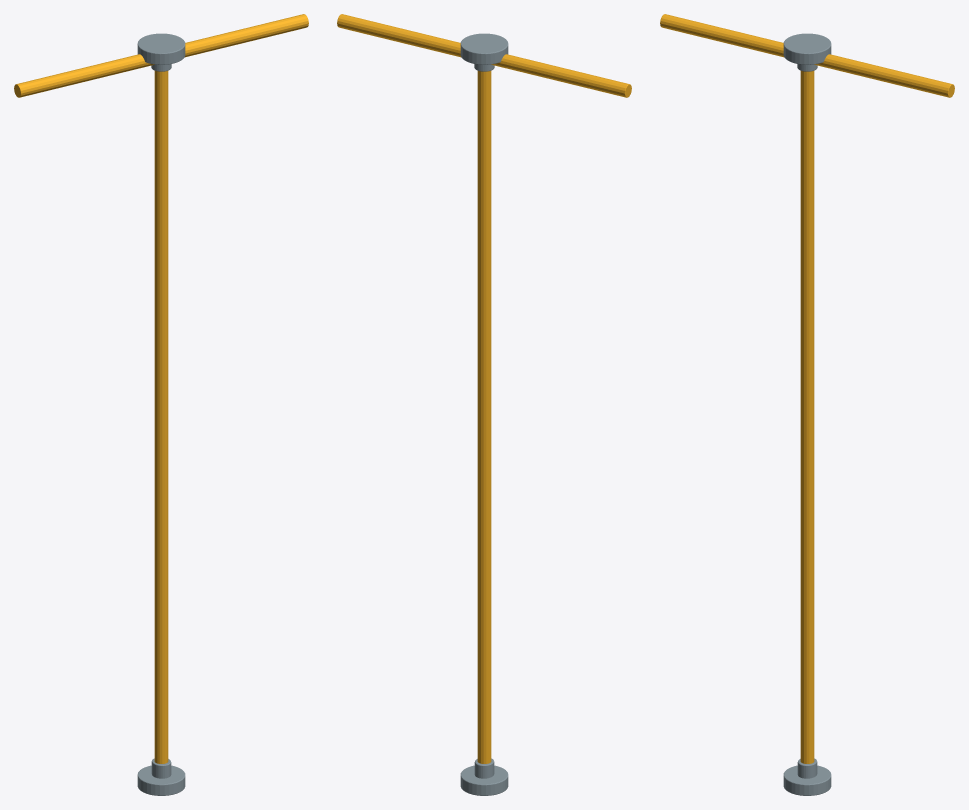
The model's file is edited.glb.
3 renders of one model, left to right at view 1: azimuth 30°, elevation 25°; view 2: azimuth 150°, elevation 25°; view 3: azimuth 330°, elevation 25°, orthographic.
Visible parts, largest first — view 1: POLE_Vertical, RAIL_Overhead, MOUNT_Flange.001, MOUNT_Flange; view 2: POLE_Vertical, RAIL_Overhead, MOUNT_Flange.001, MOUNT_Flange; view 3: POLE_Vertical, RAIL_Overhead, MOUNT_Flange.001, MOUNT_Flange.
Part boxes in pixels (box(x1,y1,x2,y2)): POLE_Vertical: box(154, 71, 168, 763); RAIL_Overhead: box(14, 14, 308, 97); MOUNT_Flange.001: box(137, 33, 185, 64); MOUNT_Flange: box(137, 765, 185, 795); POLE_Vertical: box(477, 71, 491, 763); RAIL_Overhead: box(337, 14, 631, 97); MOUNT_Flange.001: box(460, 33, 508, 64); MOUNT_Flange: box(460, 765, 508, 795); POLE_Vertical: box(800, 71, 814, 763); RAIL_Overhead: box(660, 14, 954, 97); MOUNT_Flange.001: box(783, 33, 831, 64); MOUNT_Flange: box(783, 765, 831, 795).
Size of the model in its own units: 0.9 by 2.22 by 0.13.
